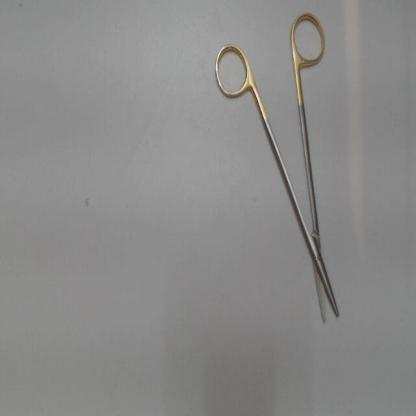7 Metzenbaum Scissors: (211, 6, 344, 328)
